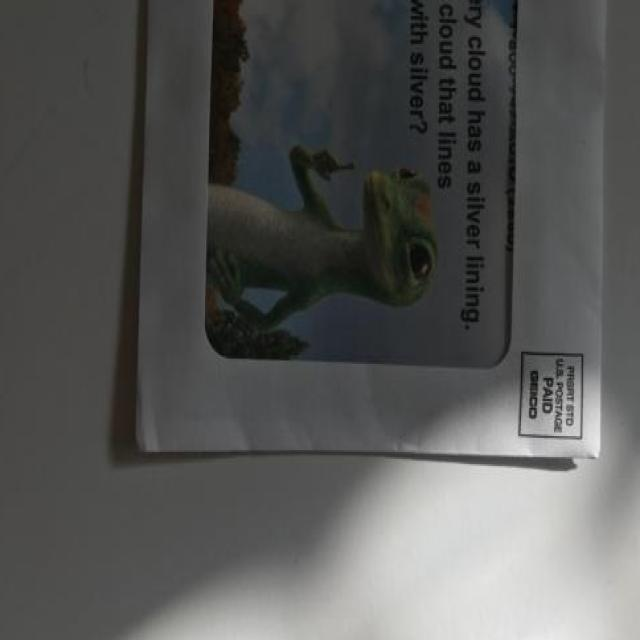kertas: (133, 0, 609, 458)
